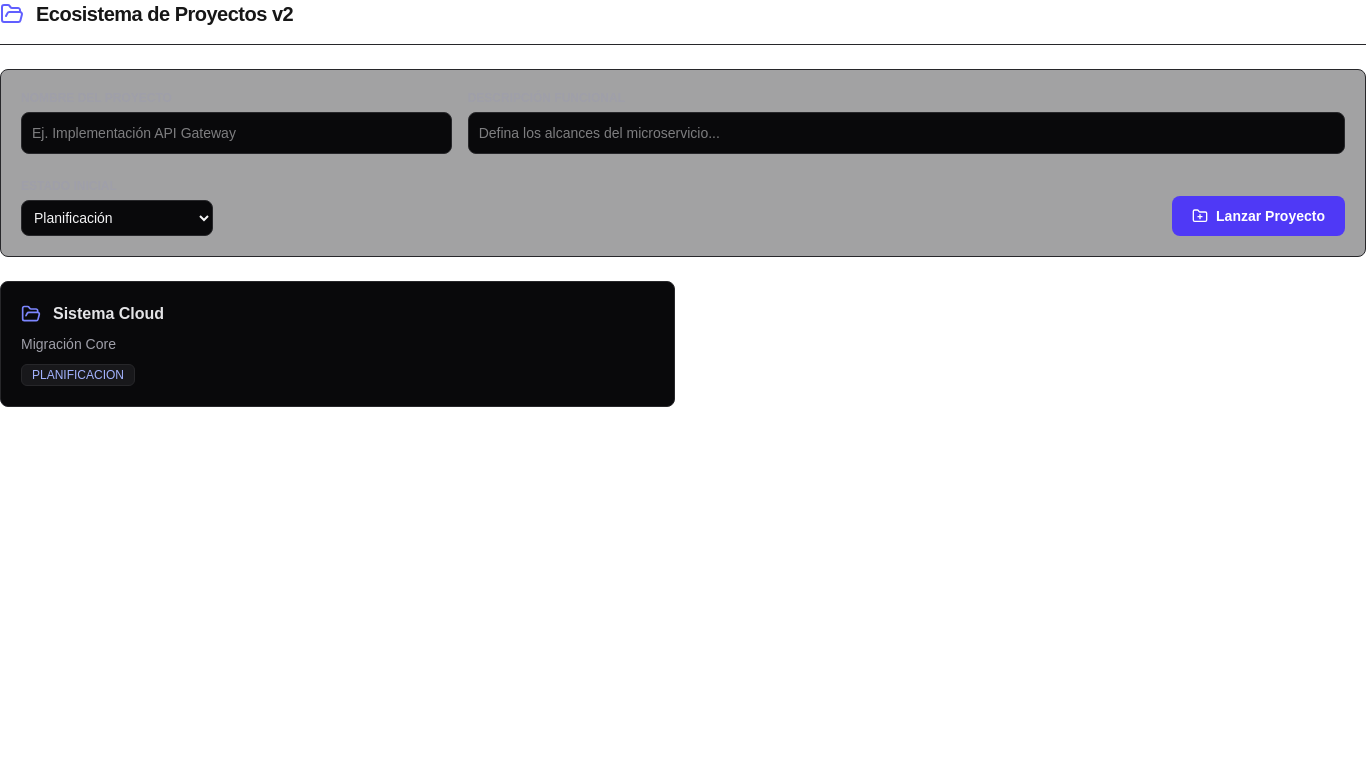
Test case: GestionProyectos - Pruebas del Ecosistema Operacional › Debería abrir el modal detallado al hacer click sobre una tarjeta de proyecto
expect the heading "Sistema Cloud" is shown: met, box [53, 302, 164, 326]
Click the text "Sistema Cloud" at coordinates (338, 344), box [0, 281, 675, 407]
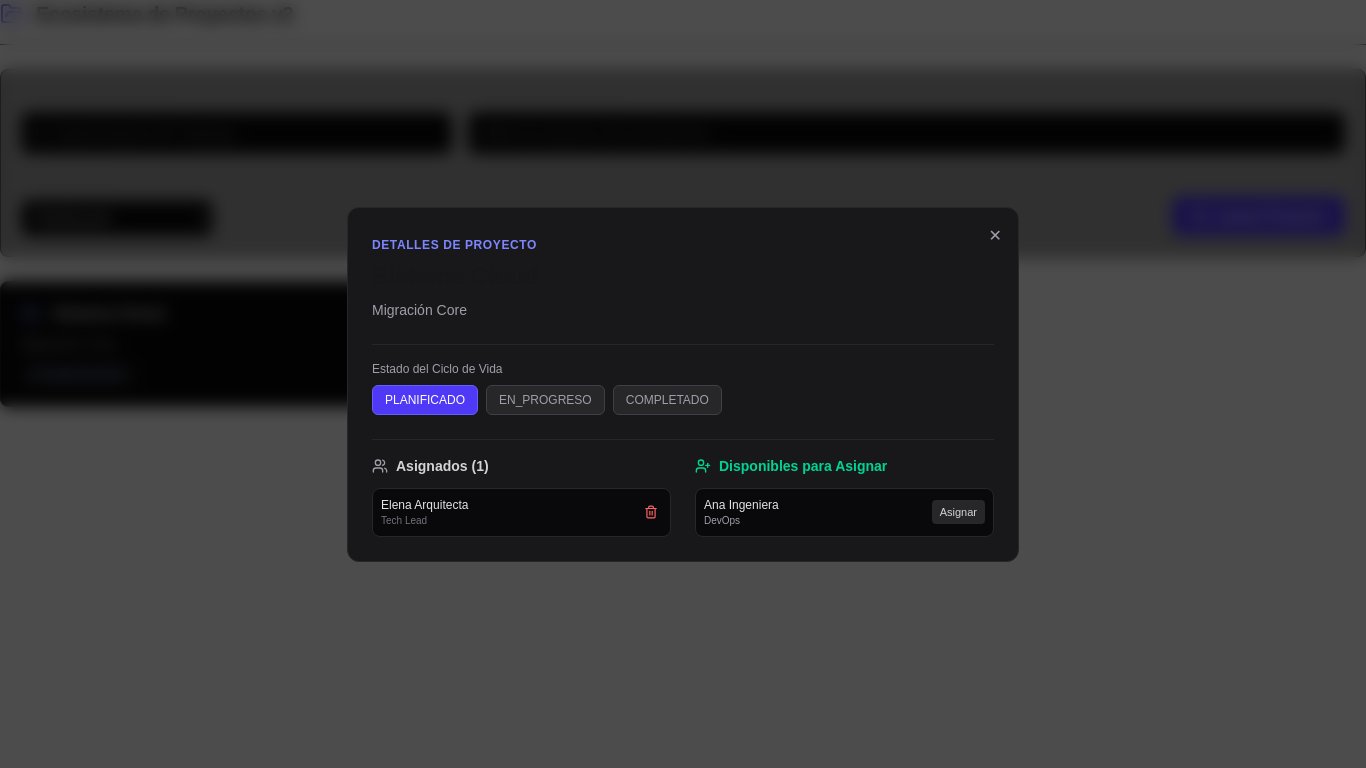
expect the text "Detalles de Proyecto" is shown: met, box [372, 238, 537, 252]
expect the text "Elena Arquitecta" is shown: met, box [381, 496, 468, 512]
expect the text "Ana Ingeniera" is shown: met, box [704, 496, 779, 512]
